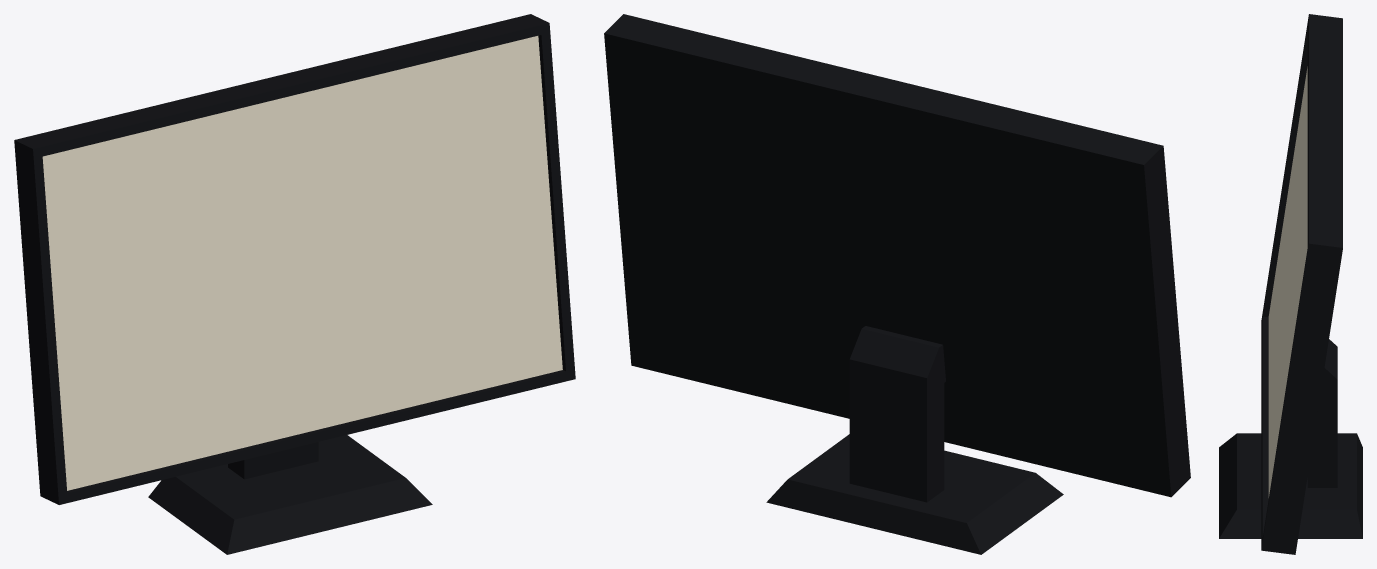
Rendered from monitor.glb.
3 views of the same model, side by side, from view 1: azimuth 30°, elevation 25°; view 2: azimuth 150°, elevation 25°; view 3: azimuth 270°, elevation 25° (orthographic). The views are drawn at different scales.
Visible parts, largest first — view 1: monitor; view 2: monitor; view 3: monitor.
Boxes of the visible parts, x1=… form: monitor: x1=14, y1=14, x2=575, y2=554; monitor: x1=604, y1=14, x2=1190, y2=554; monitor: x1=1219, y1=14, x2=1362, y2=554.
Size of the model in its own units: 0.6138 by 0.46 by 0.1626.
